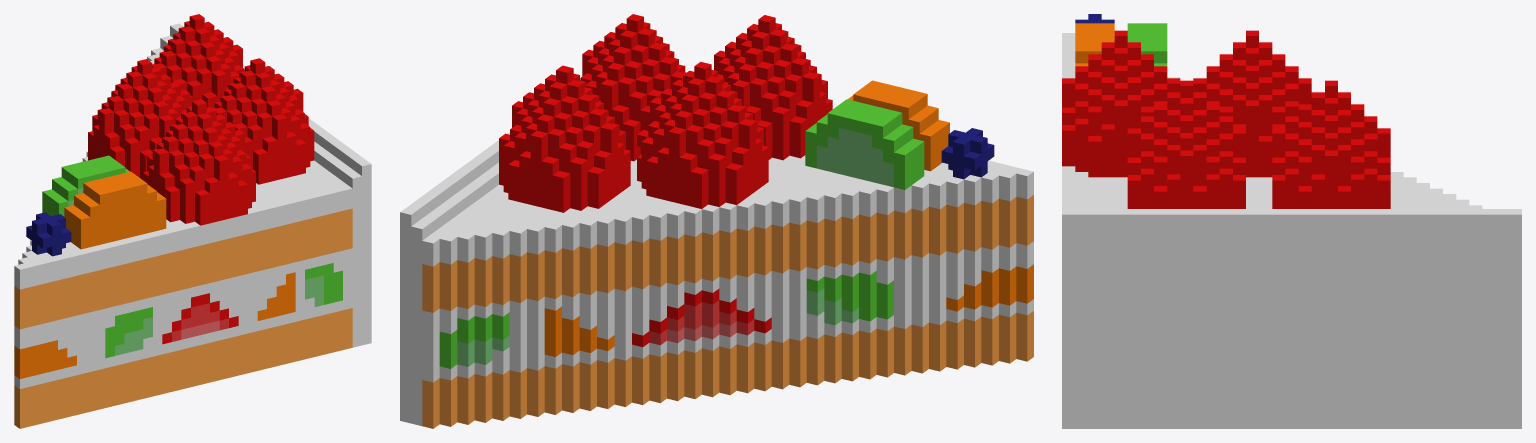
The model's file is fruitcake.obj.
The picture shows the model from 3 angles, left to right: view 1: azimuth 30°, elevation 25°; view 2: azimuth 150°, elevation 25°; view 3: azimuth 270°, elevation 25°; orthographic projection. The views are drawn at different scales.
Parts seen in each view (by area): view 1: fruitcake; view 2: fruitcake; view 3: fruitcake.
Part boxes in pixels (bbox=[...]): fruitcake: bbox=[14, 14, 371, 428]; fruitcake: bbox=[400, 14, 1033, 428]; fruitcake: bbox=[1062, 14, 1521, 428].
Bounding box in the file's own units: 37 × 26 × 35.
Materials: 1 (1 with a texture image).
